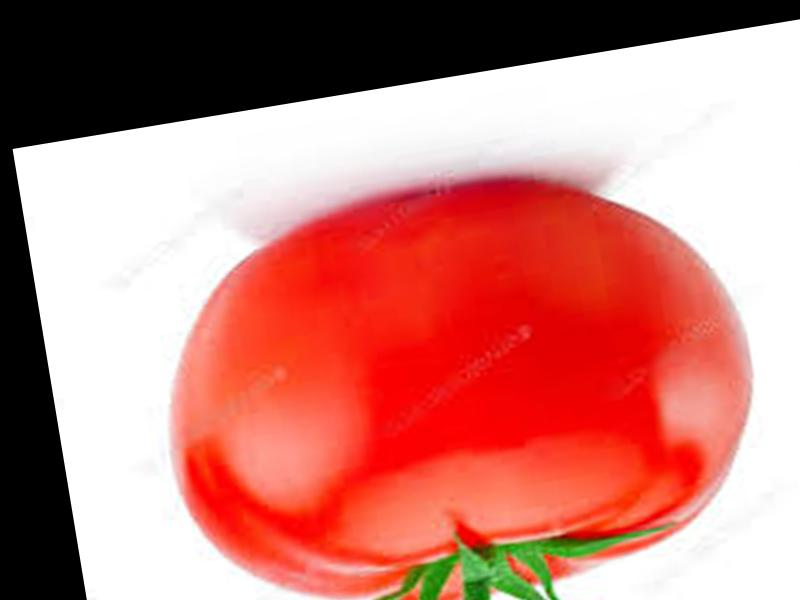Tomato: (138, 155, 781, 600)
